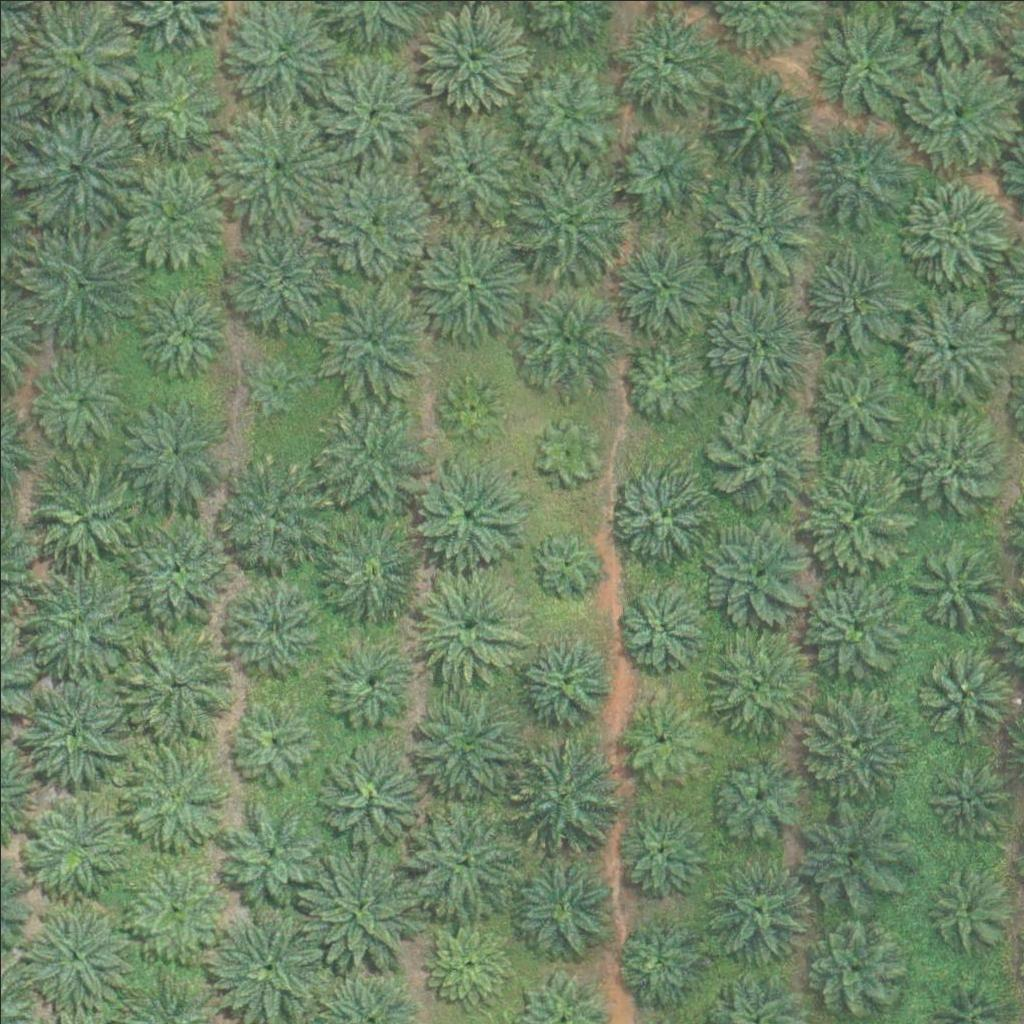Kelapa_Sawit: (502, 847, 615, 961), (510, 734, 623, 848), (22, 232, 135, 346), (116, 388, 229, 502), (697, 60, 810, 174), (812, 8, 925, 122), (793, 683, 906, 796), (798, 564, 911, 677), (504, 626, 617, 739), (412, 564, 525, 677), (211, 908, 324, 1021), (115, 736, 228, 849), (123, 627, 236, 740), (18, 559, 131, 672), (27, 460, 140, 573), (22, 111, 135, 224), (118, 508, 231, 621), (319, 287, 432, 400), (315, 164, 428, 277), (410, 453, 523, 566), (413, 227, 526, 340), (705, 398, 818, 511), (701, 285, 814, 398), (700, 170, 813, 283), (800, 460, 913, 573), (798, 340, 911, 453), (320, 52, 433, 165), (405, 802, 517, 916), (408, 690, 520, 804), (311, 622, 423, 736), (217, 453, 329, 567), (314, 510, 426, 624), (803, 120, 915, 234), (893, 289, 1005, 403), (897, 168, 1009, 282), (794, 804, 906, 917), (701, 857, 813, 970), (704, 626, 816, 739), (304, 853, 416, 966), (310, 740, 422, 853), (21, 896, 133, 1009), (16, 672, 128, 785), (116, 156, 228, 269), (222, 222, 334, 335), (220, 109, 332, 222), (311, 398, 423, 511), (414, 108, 526, 221), (510, 281, 622, 394), (511, 159, 623, 272), (602, 454, 714, 567), (608, 223, 720, 336), (702, 513, 814, 626), (798, 238, 910, 351), (892, 406, 1004, 519), (902, 54, 1014, 167), (913, 643, 1013, 744), (804, 920, 904, 1021), (707, 749, 807, 850), (223, 803, 323, 904), (127, 857, 227, 958), (27, 797, 127, 898), (612, 118, 712, 219), (907, 534, 1007, 635), (512, 63, 612, 164), (123, 63, 223, 164), (610, 912, 710, 1012), (610, 798, 710, 898), (220, 575, 320, 675), (30, 352, 130, 452), (132, 283, 232, 383), (609, 14, 709, 114), (617, 578, 705, 666), (423, 919, 511, 1007), (620, 338, 708, 426), (923, 752, 1010, 841), (920, 866, 1007, 954), (618, 694, 705, 782), (227, 697, 314, 785), (439, 376, 502, 439), (531, 530, 594, 593), (536, 419, 599, 482), (243, 356, 305, 419)
